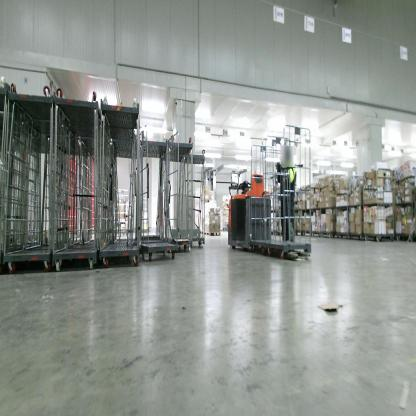pallet: (203, 231, 223, 238), (197, 227, 203, 235)
pallet_truck: (221, 158, 314, 256)
